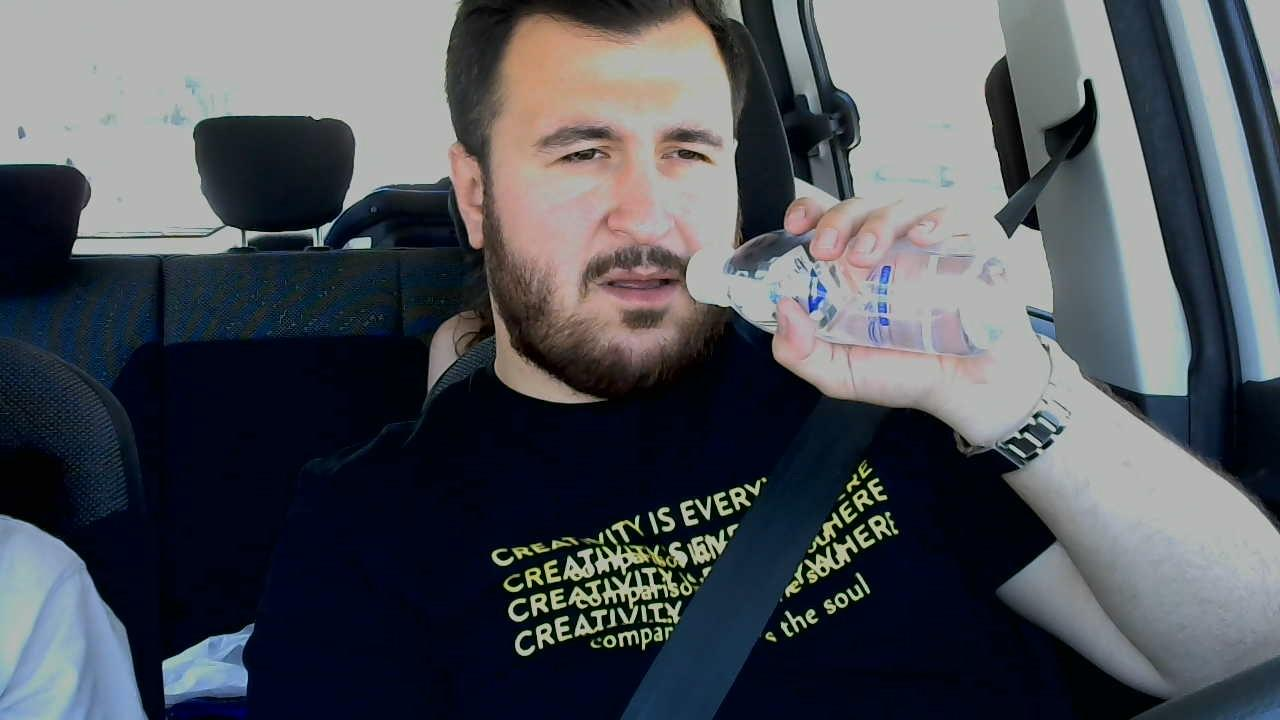Drinking: (448, 0, 1016, 407)
